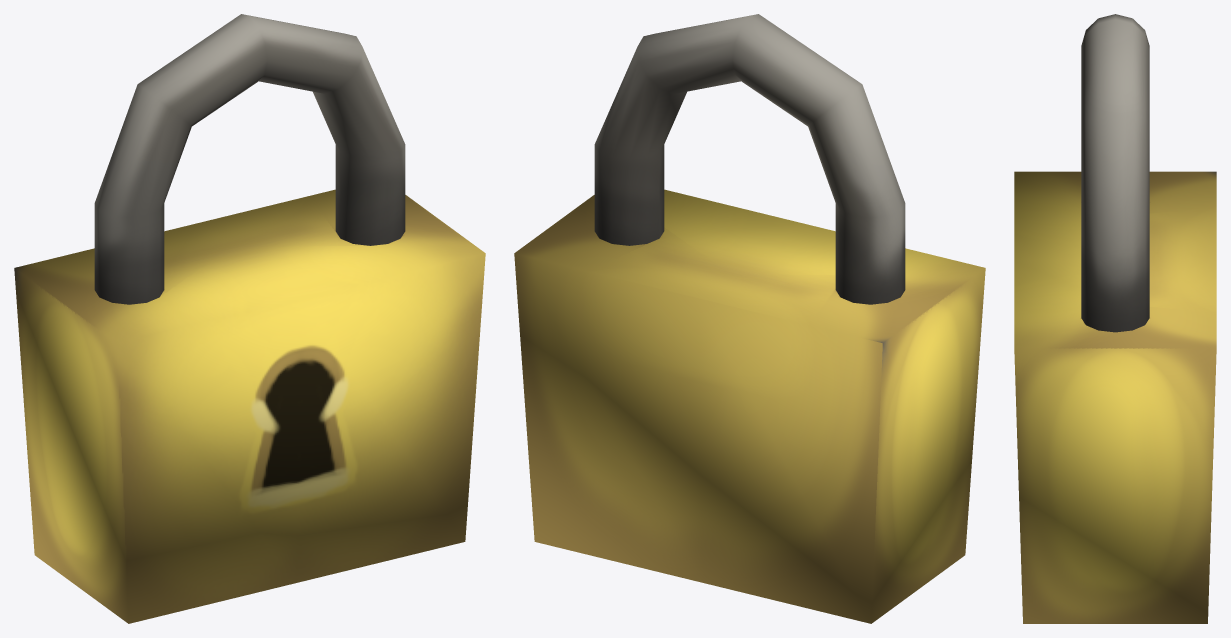
File: fechadura.fbx
3 renders of one model, left to right at view 1: azimuth 30°, elevation 25°; view 2: azimuth 150°, elevation 25°; view 3: azimuth 270°, elevation 25°, orthographic.
Visible parts, largest first — view 1: fechadura; view 2: fechadura; view 3: fechadura.
Boxes of the visible parts, box(x1,y1,x2,y2) form: fechadura: box(14, 14, 485, 623); fechadura: box(514, 14, 985, 623); fechadura: box(1014, 14, 1216, 623).
Bounding box in the file's own units: 200 × 276 × 96.71.
